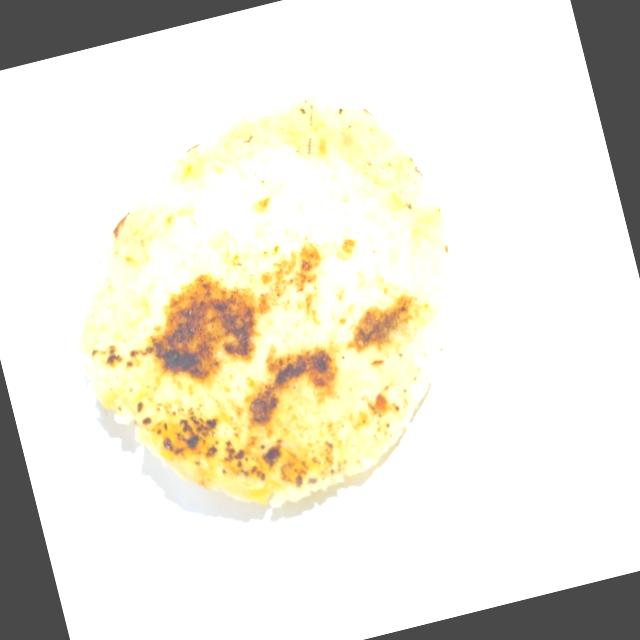Mbeju: (26, 52, 511, 561)
